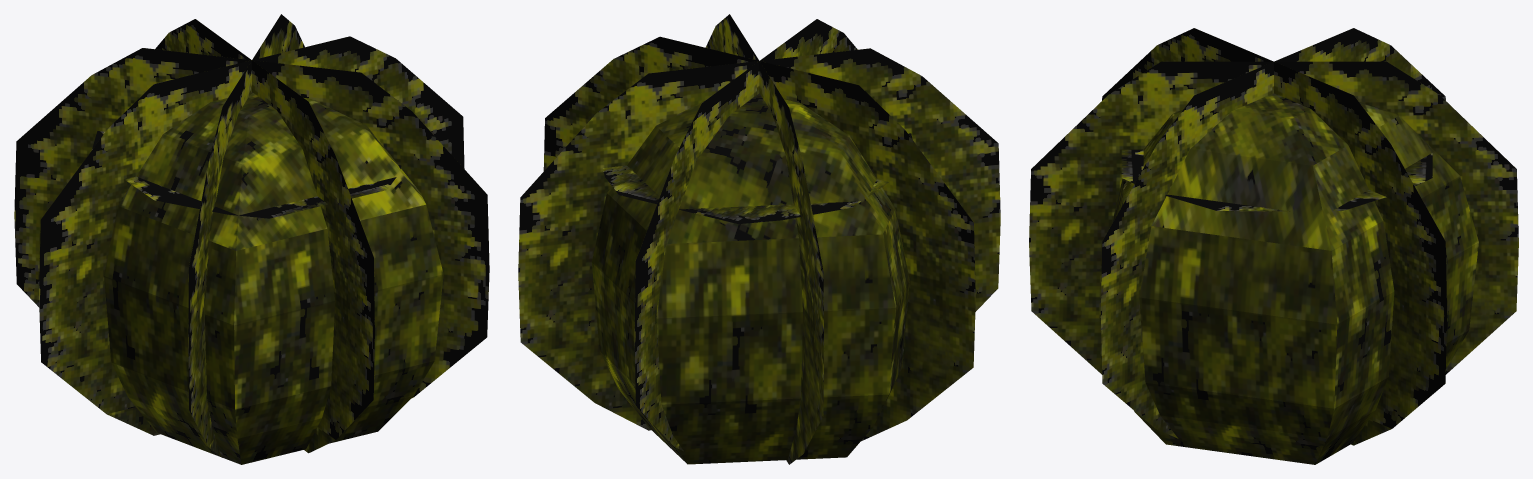
The model's file is Bush_3.fbx.
3 views of the same model, side by side, from view 1: azimuth 30°, elevation 25°; view 2: azimuth 150°, elevation 25°; view 3: azimuth 270°, elevation 25° (orthographic).
Parts seen in each view (by area): view 1: Cube.015; view 2: Cube.015; view 3: Cube.015.
Boxes of the visible parts, x1,y1,x2,y2 form: Cube.015: [14, 14, 489, 464]; Cube.015: [518, 14, 1000, 464]; Cube.015: [1029, 28, 1518, 464].
Size of the model in its own units: 164 by 129 by 164.
1 material, 1 textured.
